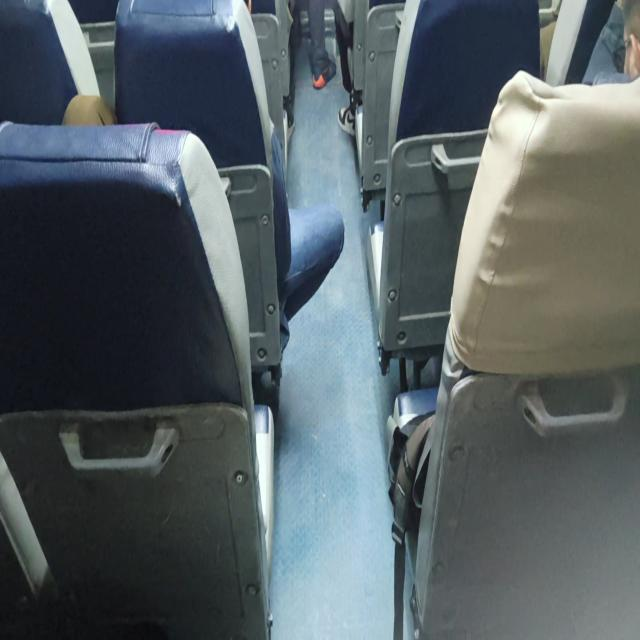person: (394, 1, 639, 637), (62, 0, 344, 362), (230, 0, 344, 356), (284, 0, 336, 128), (581, 0, 639, 85)
